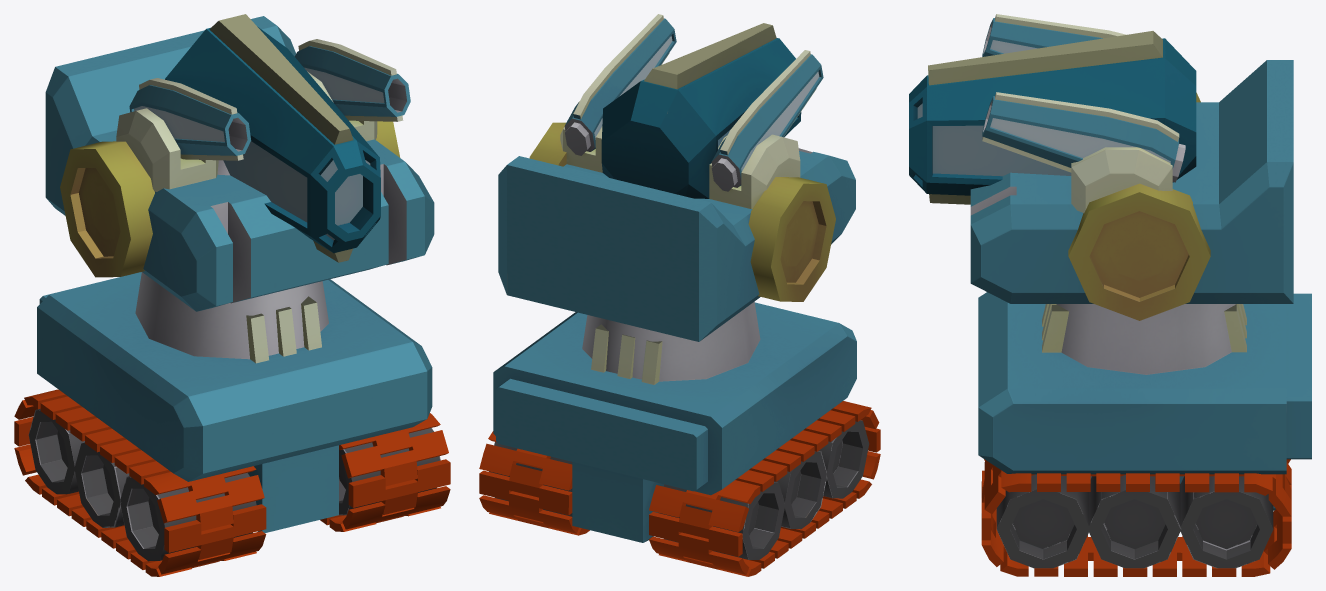
Rendered from player_idle_1_upgrade1.obj.
The picture shows the model from 3 angles, left to right: view 1: azimuth 30°, elevation 25°; view 2: azimuth 150°, elevation 25°; view 3: azimuth 270°, elevation 25°; orthographic projection. The views are drawn at different scales.
Visible parts, largest first — view 1: Object004, Box038, Object012, Object011, Box042; view 2: Object004, Box038, Object012, Object011, Box042; view 3: Object004, Object011, Object012, Box042.
Boxes of the visible parts, x1,y1,x2,y2 form: Object004: (37, 14, 434, 532); Box038: (14, 389, 266, 576); Object012: (129, 39, 410, 160); Object011: (28, 409, 440, 561); Box042: (320, 413, 450, 531); Object004: (493, 23, 856, 542); Box038: (649, 401, 880, 576); Object012: (564, 14, 823, 191); Object011: (489, 420, 869, 559); Box042: (479, 431, 589, 535); Object004: (909, 31, 1311, 510); Object011: (996, 474, 1273, 568); Object012: (982, 14, 1185, 182); Box042: (981, 460, 1291, 576).
Bounding box in the file's own units: 110 × 177 × 136.
Materials: 4 (2 with a texture image).
